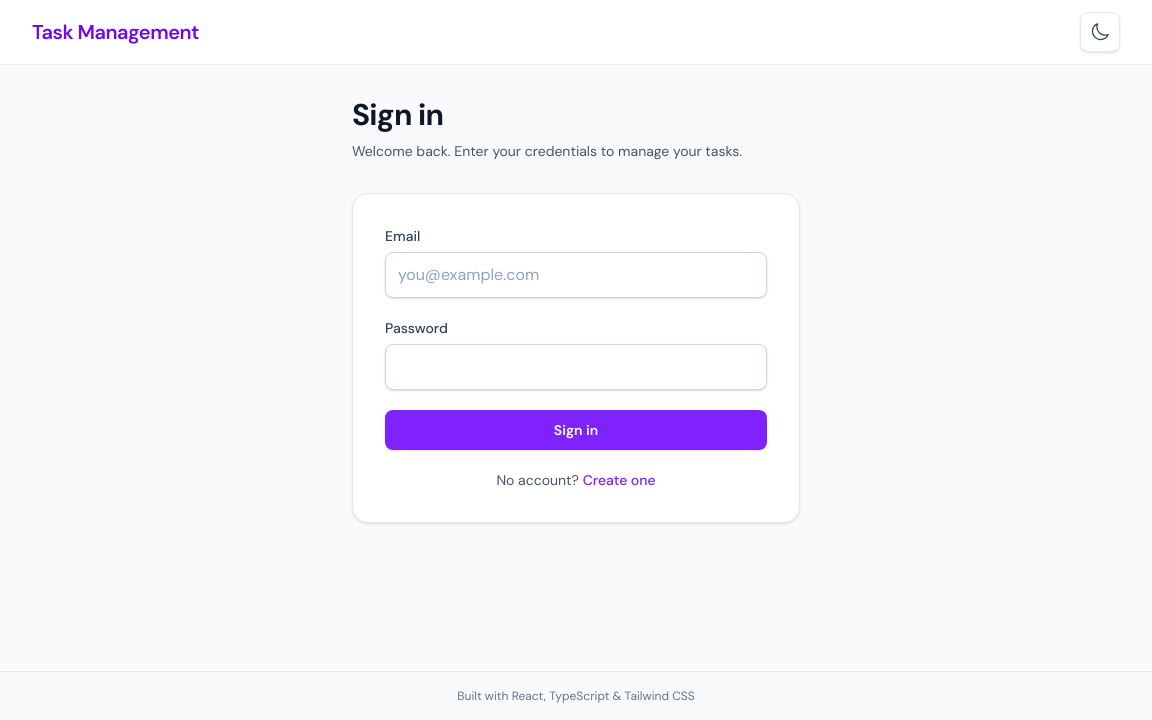
Test: LoginPage › shows inline validation errors
This screenshot has width=1152, height=720.
Click the button with test id "login-submit" at (576, 430), box x1=385 y1=410 x2=767 y2=450
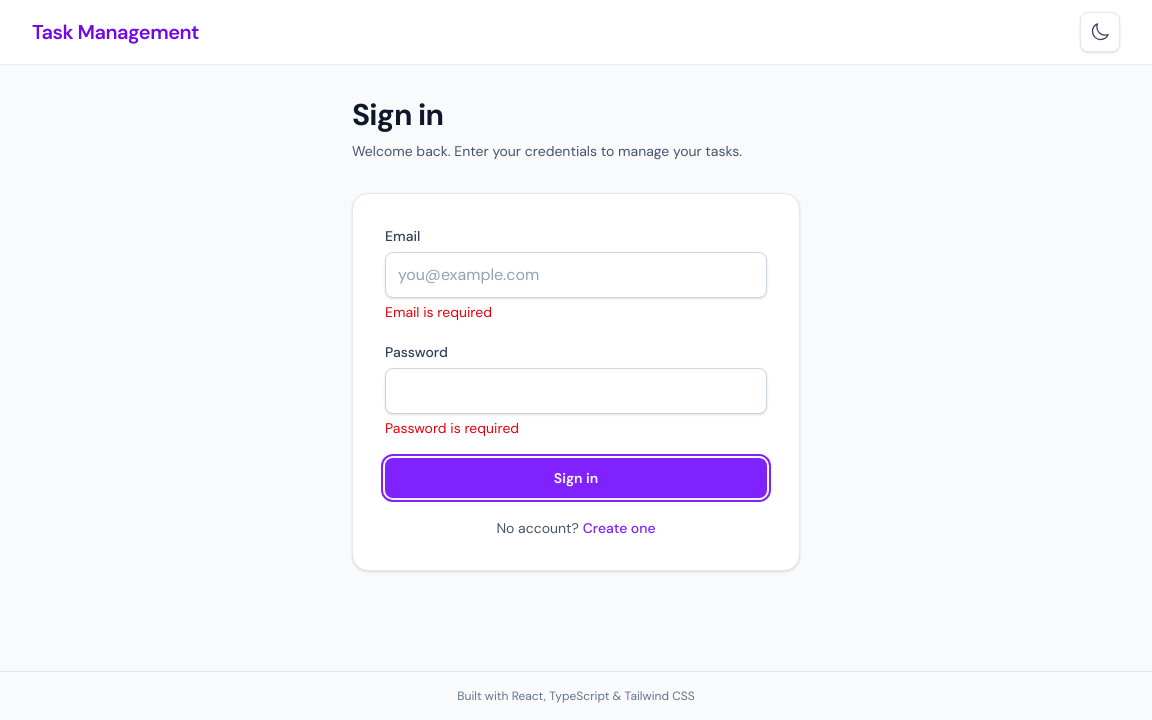
Expected: the text with test id "login-email-field-error" reads "Email is required", x1=385 y1=303 x2=492 y2=321
Expected: the text with test id "login-password-field-error" reads "Password is required", x1=385 y1=419 x2=519 y2=437
